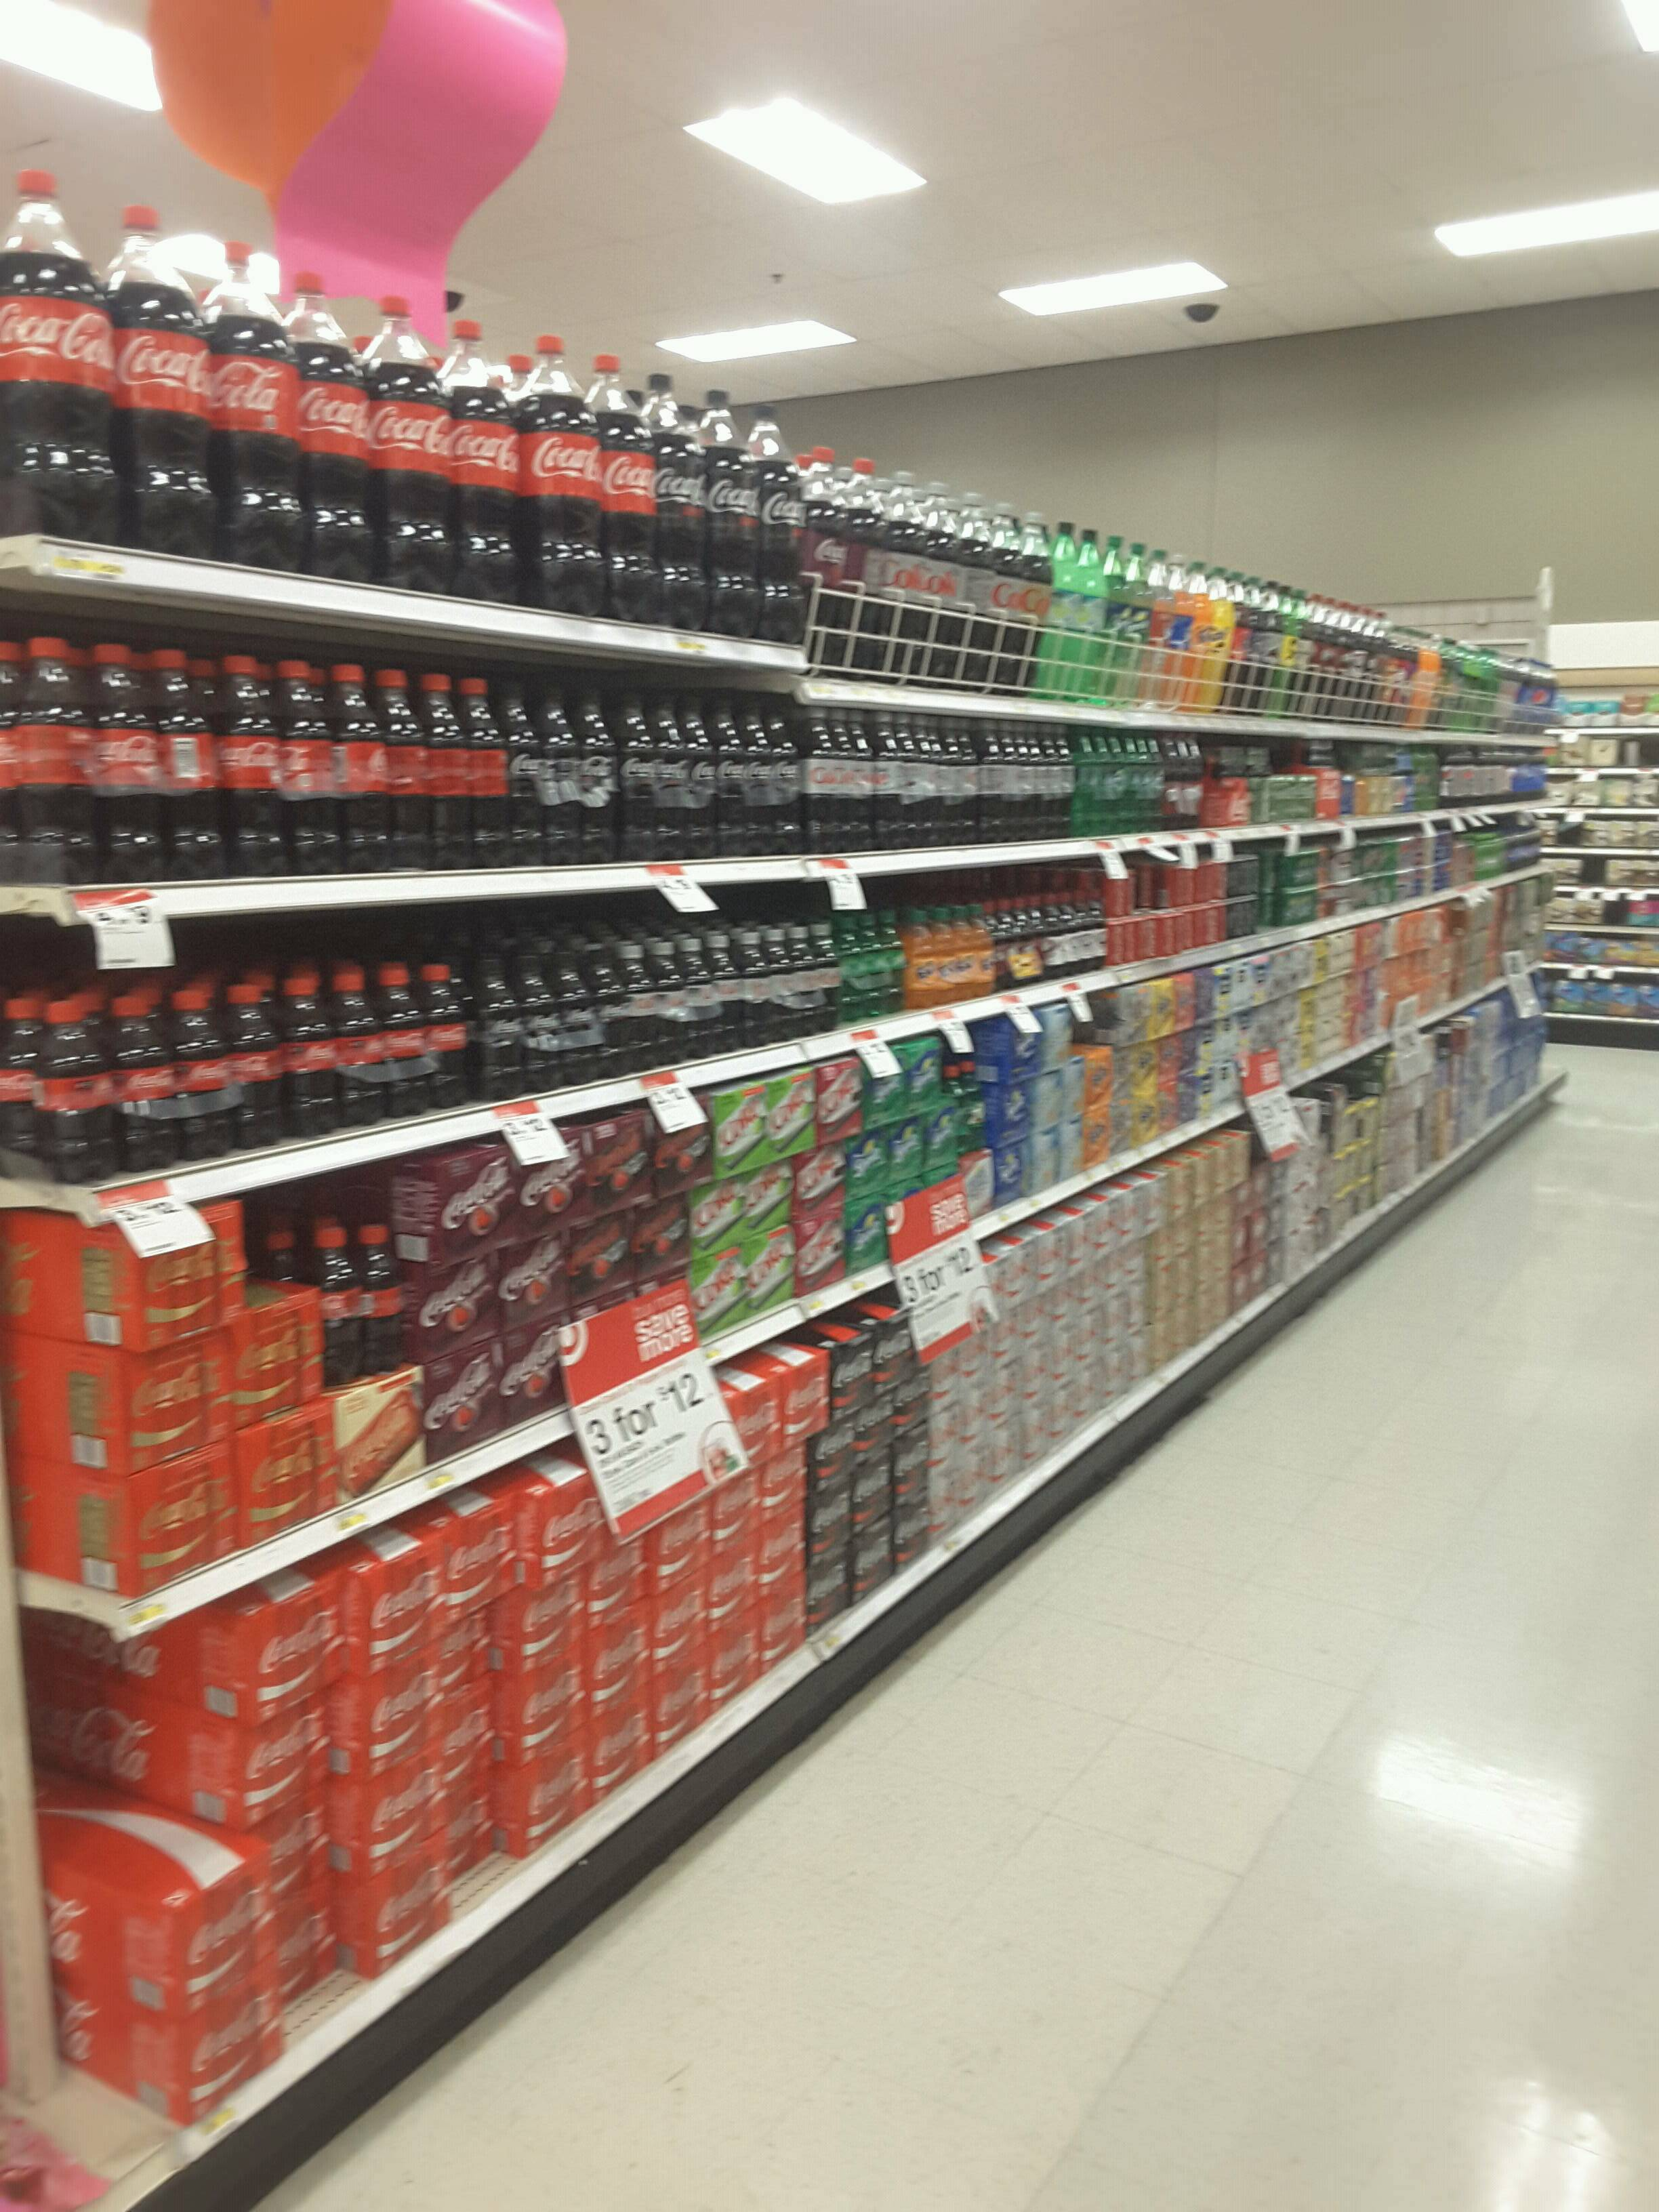Misplacement: (40, 1602, 253, 2135)
